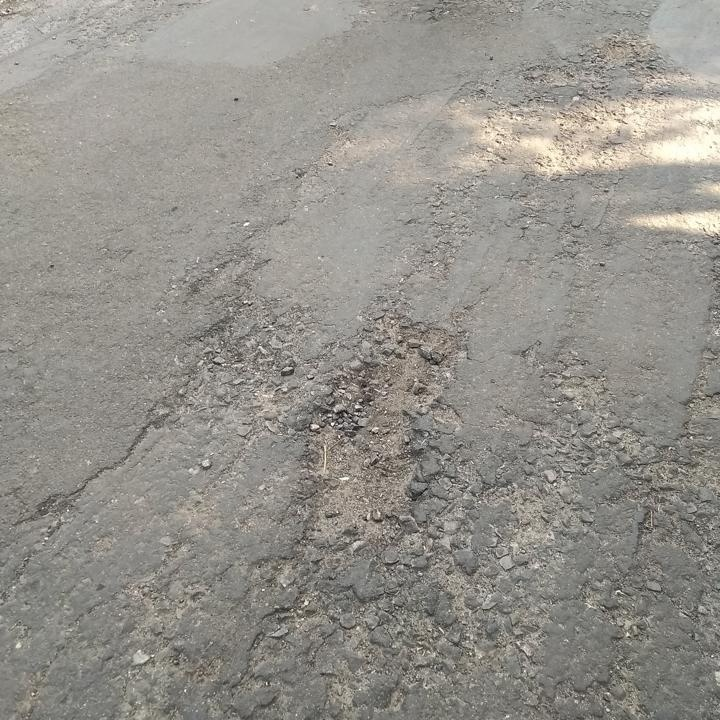pothole: (292, 310, 475, 551), (191, 306, 300, 401)
